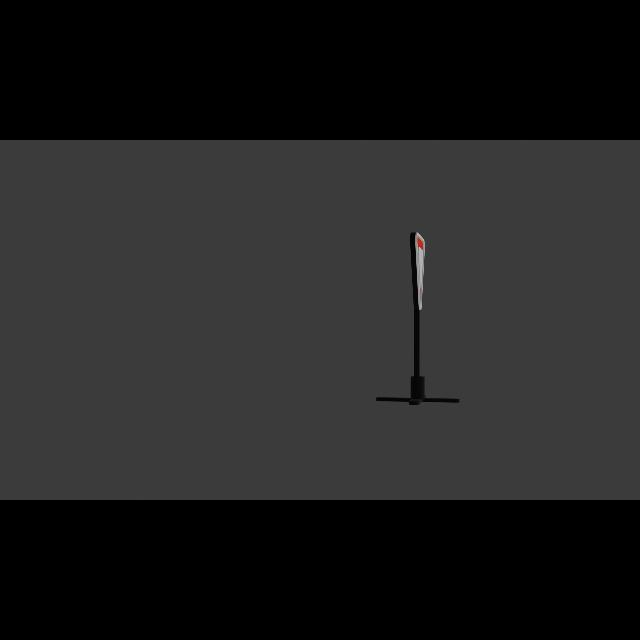sign_yield: (411, 232, 427, 312)
